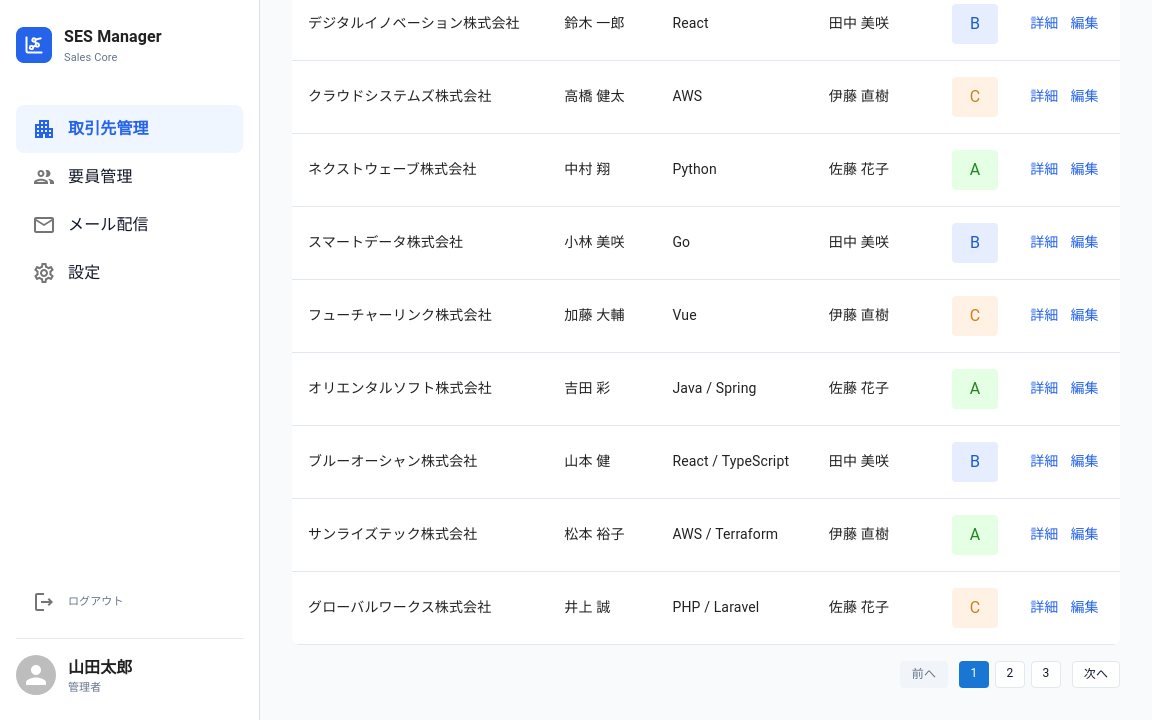
Test: CompanyPage › ページ変更で一覧が切り替わる
(page scrolled)
Click the button named "Go to page 2".
click(1010, 674)  # box [995,660,1025,688]
(page scrolled)
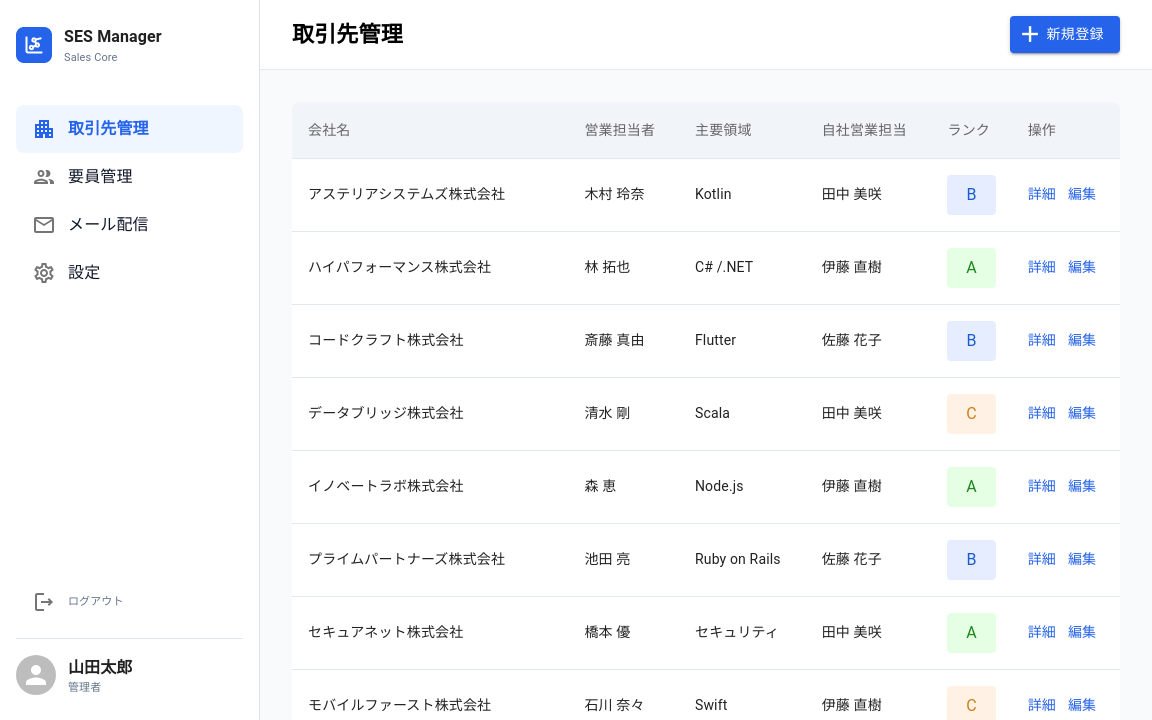
Result: the text "アステリアシステムズ株式会社" is shown at [292,158,568,231]
